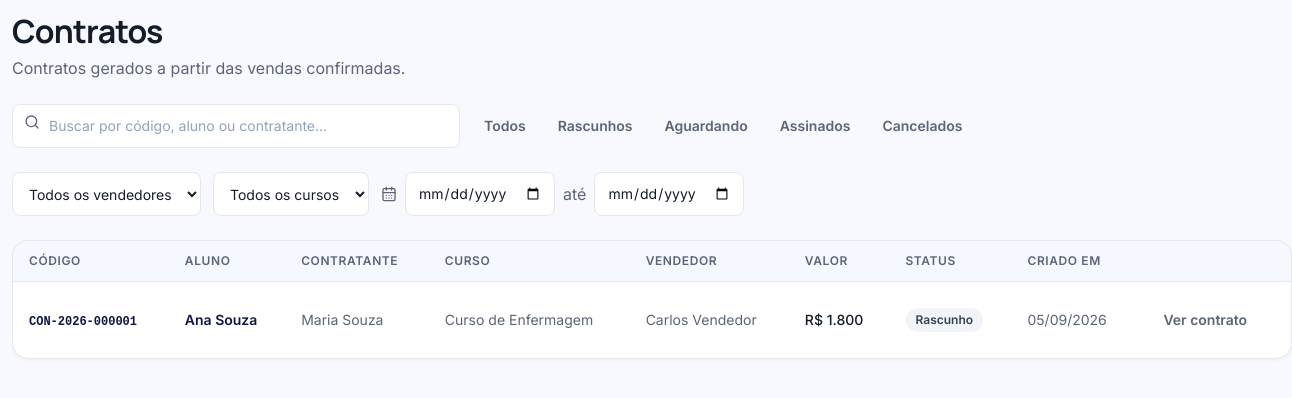
it: ContractsPage — persistência de filtros na URL (Fase 7) › limpar filtro remove o parâmetro da URL
Type "Ana" into the field with placeholder "Buscar por código, aluno ou contratante..." at (236, 126), box [12, 104, 460, 148]
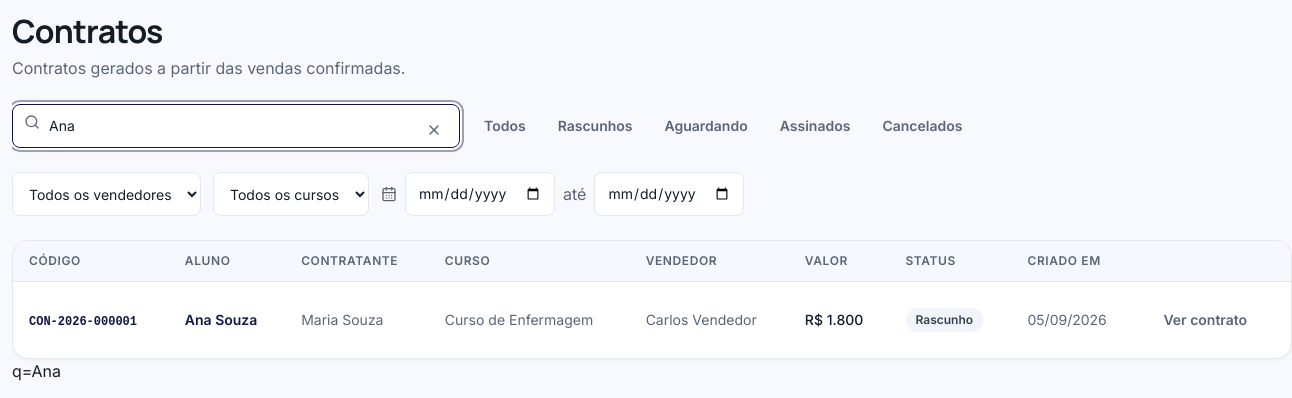
Result: the text with test id "location-search" reads "q=Ana" at [12, 361, 61, 381]
Click the button named "Limpar busca" at (434, 130), box [412, 108, 456, 152]
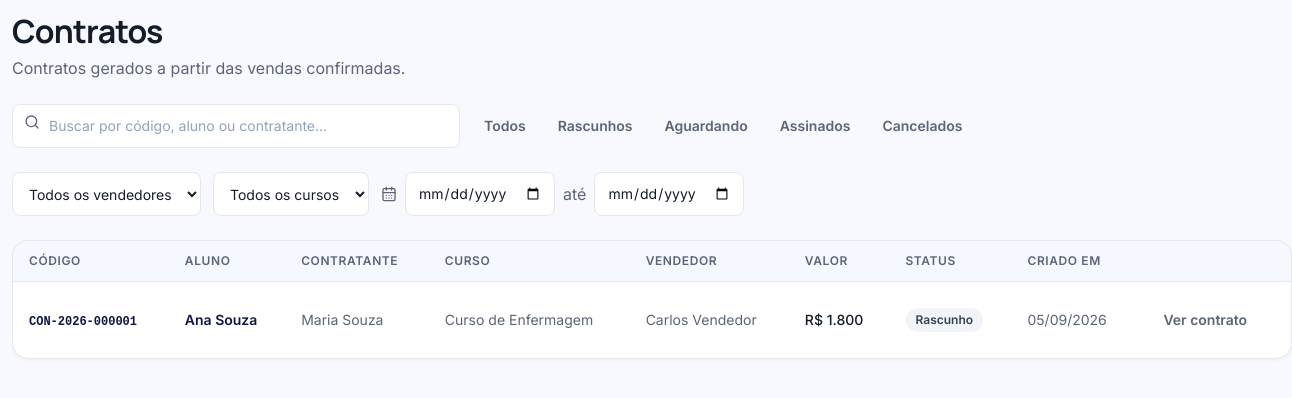
Result: the text with test id "location-search" no longer shows "q="
